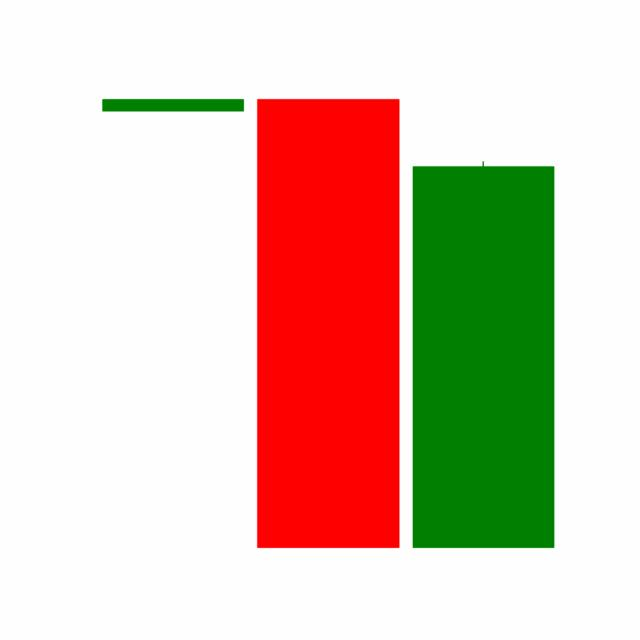Marubozu: (405, 156, 561, 551)
